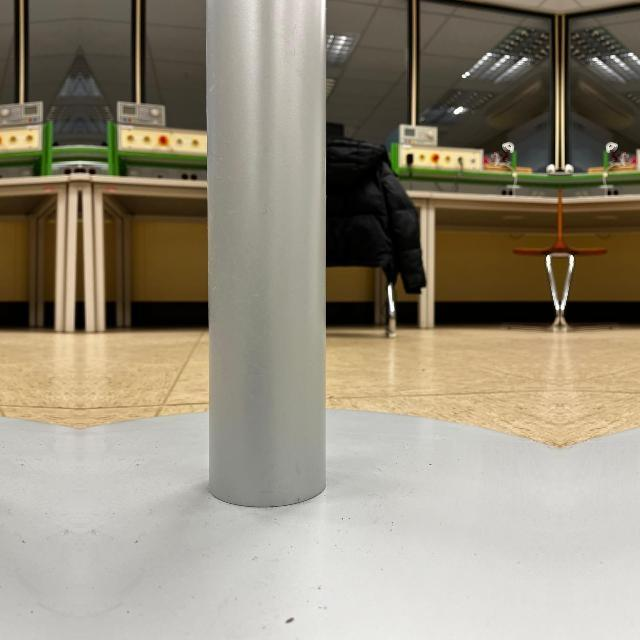obstacle: (80, 270, 560, 640), (0, 270, 80, 639), (560, 270, 640, 639)
